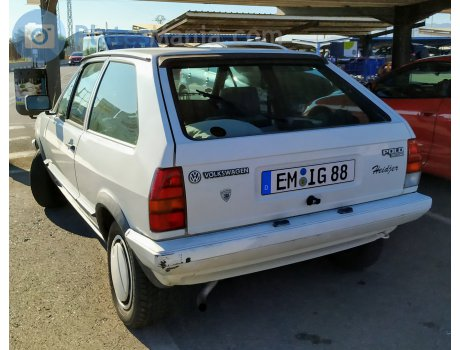License Plates: (264, 170, 356, 183)
